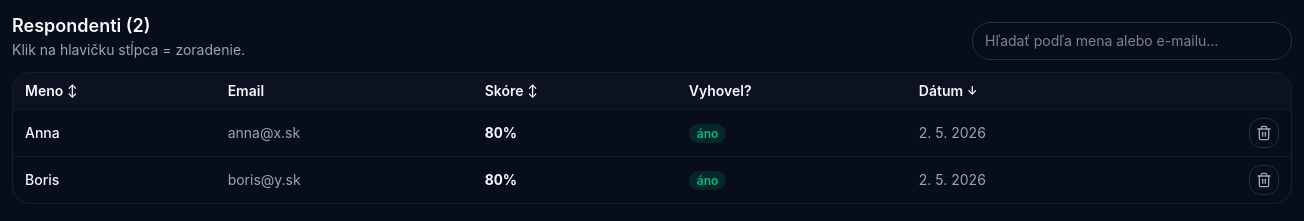
RespondentsTable › filters rows by name OR email when typing in search
Type "Bor" into the search field named "Filtrovať respondentov" at {"x": 1132, "y": 41}, box x1=972 y1=22 x2=1292 y2=60
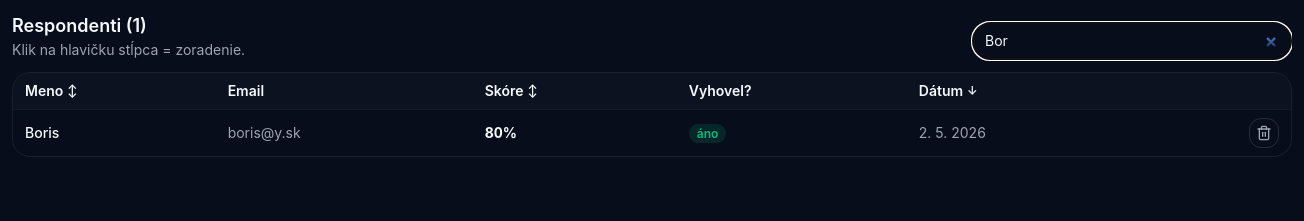
Expected: the text "Boris" is shown, x1=13 y1=110 x2=216 y2=156
Now the text "Anna" is gone
